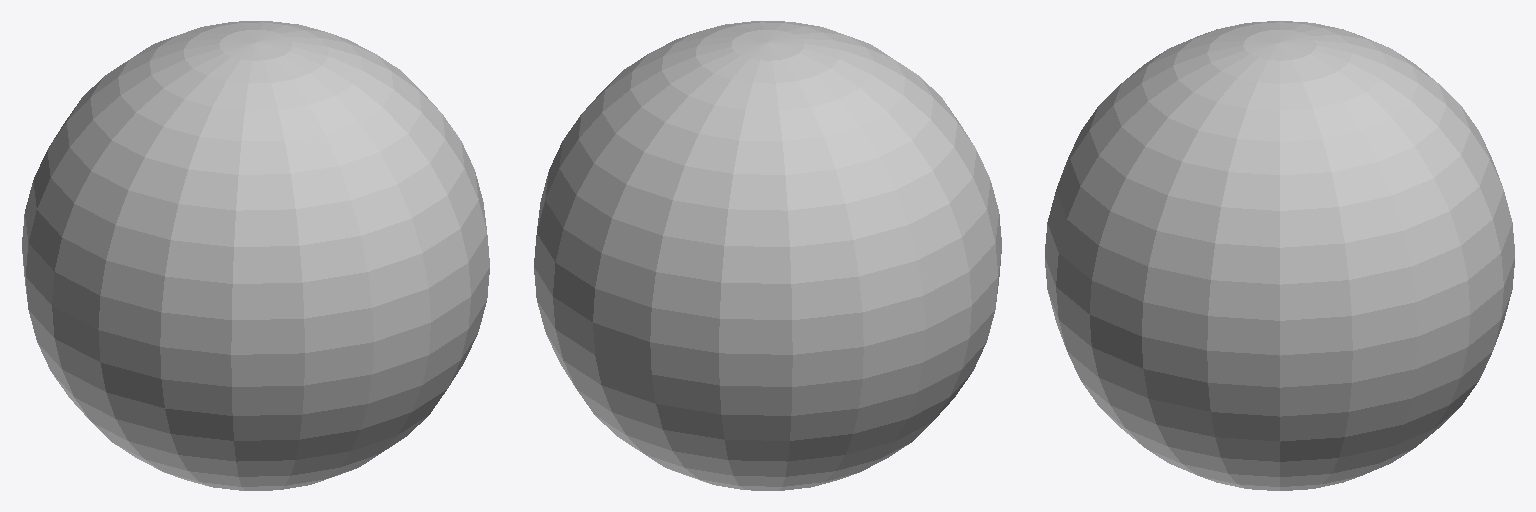
The model's file is lelbow.obj.
3 renders of one model, left to right at view 1: azimuth 30°, elevation 25°; view 2: azimuth 150°, elevation 25°; view 3: azimuth 270°, elevation 25°, orthographic.
Parts seen in each view (by area): view 1: pSphere4; view 2: pSphere4; view 3: pSphere4.
Part boxes in pixels (x1,y1,x2,y2): pSphere4: (22,21,489,490); pSphere4: (534,21,1001,490); pSphere4: (1045,21,1514,490).
Bounding box in the file's own units: 0.4301 × 0.4301 × 0.4301.